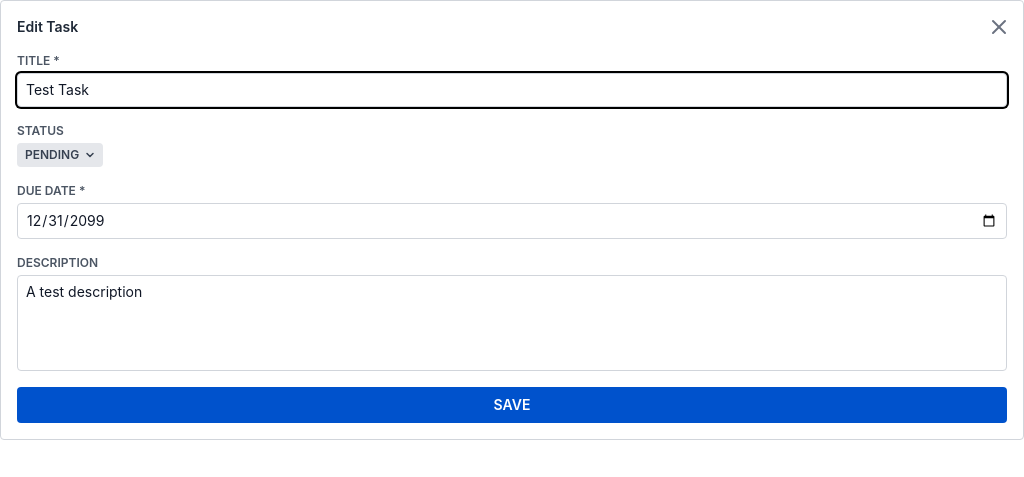
Test case: TaskForm (edit side panel) › shows a due-date error when date is cleared
Clear the date field labelled "Due Date *": (512, 221) [17, 203, 1007, 239]
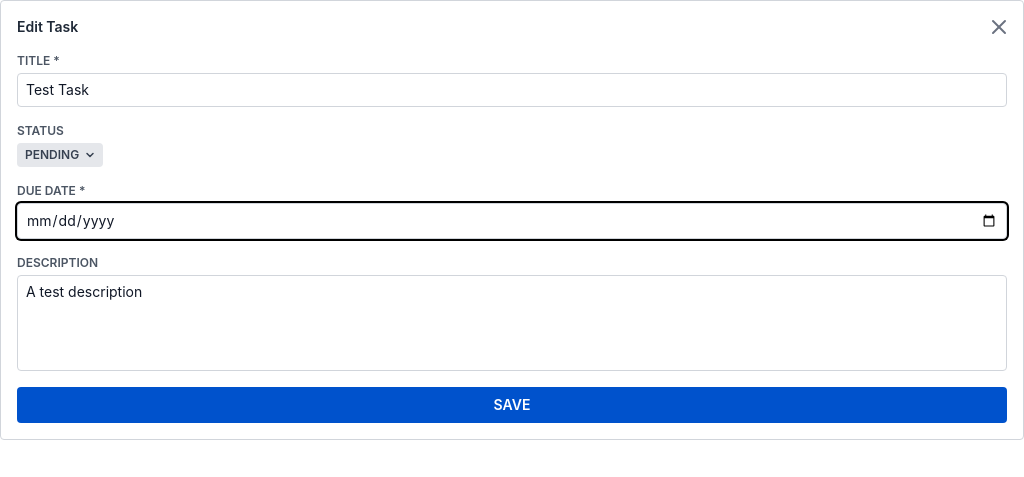
Click the button "Save": (512, 405) [17, 387, 1007, 423]
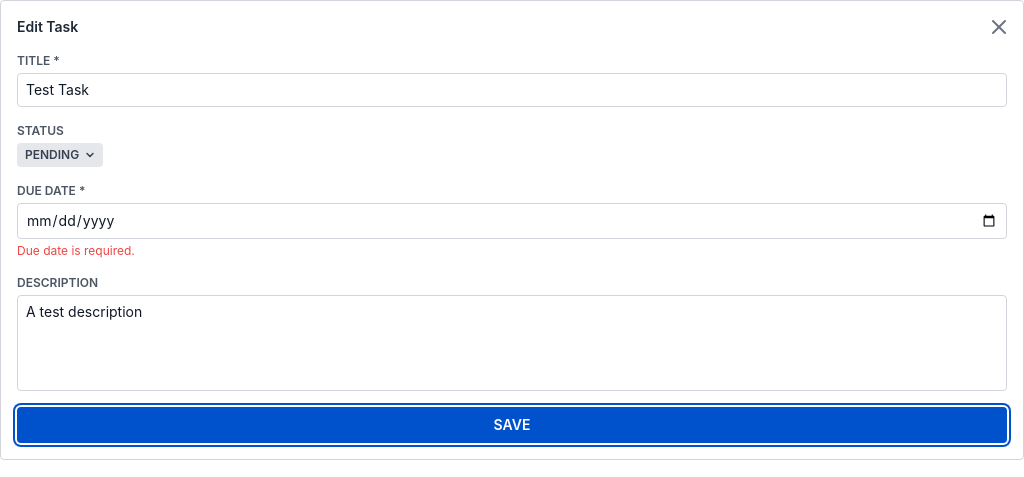
Now the message shows "Due date is required", box [17, 243, 135, 258]
